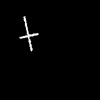single_crochet: (20, 17, 37, 50)
